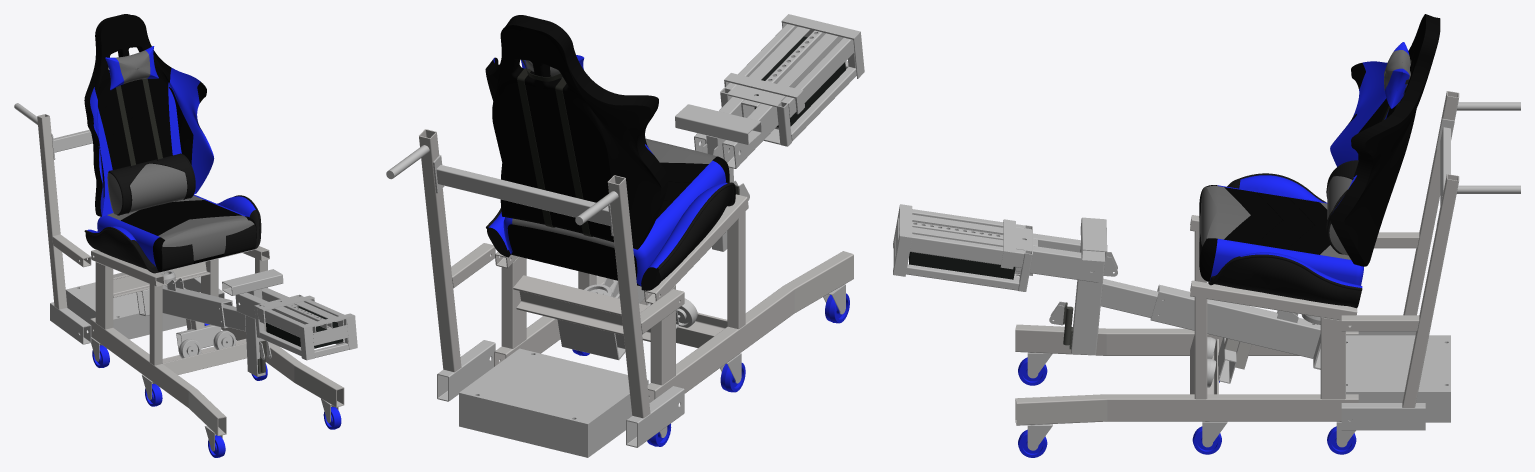
Rendered from drx.glb.
3 views of the same model, side by side, from view 1: azimuth 30°, elevation 25°; view 2: azimuth 150°, elevation 25°; view 3: azimuth 270°, elevation 25° (orthographic). The views are drawn at different scales.
Parts seen in each view (by area): view 1: Chair:1, Bent leg:1, Electrical box:1, 1.5x1.5 rect beam-03:1, Bent leg 2:1, 4x2 rect beam-02:2, Middle I-Beam:2, Vertical leg 2:1, Vertical leg 1:2, Middle I-Beam:1, 3x1.5 rect beam-01:1, 3x1.5 rect beam-05:1.001 (+20 smaller); view 2: Chair:1, Electrical box:1, Bent leg:1, 1.5x1.5 rect beam-03:1, 1.5x1.5 rect beam-03:1.001, Middle I-Beam:1, 2x1 rect beam-01:1, 3x1.5 rect beam-01:1, Vertical leg 1:2, Vertical leg 2:2, 3x1.5 rect beam-05:1.001, Support bar 1:1 (+25 smaller); view 3: Chair:1, Bent leg 2:1, Electrical box:1, 4x2 rect beam-02:2, Bent leg:1, 1.5x1.5 rect beam-03:1.001, 1.5x1.5 rect beam-03:1, Support bar 1:2, 3x1.5 rect beam-05:1.002, Vertical leg 2:2, 3x1.5 rect beam-02:2, 2x1 rect beam-02:1 (+15 smaller).
Part boxes in pixels (bbox=[...]): Chair:1: bbox=[84, 14, 261, 273]; Bent leg:1: bbox=[90, 317, 226, 435]; Electrical box:1: bbox=[65, 282, 186, 339]; 1.5x1.5 rect beam-03:1: bbox=[37, 114, 67, 309]; Bent leg 2:1: bbox=[199, 292, 344, 407]; 4x2 rect beam-02:2: bbox=[162, 285, 232, 328]; Middle I-Beam:2: bbox=[162, 338, 247, 374]; Vertical leg 2:1: bbox=[95, 262, 113, 329]; Vertical leg 1:2: bbox=[149, 283, 162, 365]; Middle I-Beam:1: bbox=[113, 262, 210, 297]; 3x1.5 rect beam-01:1: bbox=[222, 269, 283, 295]; 3x1.5 rect beam-05:1.001: bbox=[50, 302, 91, 344]; Chair:1: bbox=[485, 15, 735, 290]; Electrical box:1: bbox=[459, 348, 648, 457]; Bent leg:1: bbox=[647, 251, 853, 402]; 1.5x1.5 rect beam-03:1: bbox=[607, 175, 650, 418]; 1.5x1.5 rect beam-03:1.001: bbox=[419, 129, 461, 372]; Middle I-Beam:1: bbox=[513, 275, 650, 341]; 2x1 rect beam-01:1: bbox=[436, 165, 610, 225]; 3x1.5 rect beam-01:1: bbox=[675, 104, 761, 145]; Vertical leg 1:2: bbox=[727, 211, 745, 329]; Vertical leg 2:2: bbox=[501, 256, 526, 348]; 3x1.5 rect beam-05:1.001: bbox=[626, 386, 684, 447]; Support bar 1:1: bbox=[644, 194, 748, 303]; Chair:1: bbox=[1199, 14, 1440, 308]; Bent leg 2:1: bbox=[1015, 394, 1358, 425]; Electrical box:1: bbox=[1346, 335, 1450, 422]; 4x2 rect beam-02:2: bbox=[1150, 284, 1320, 358]; Bent leg:1: bbox=[1015, 324, 1358, 355]; 1.5x1.5 rect beam-03:1.001: bbox=[1402, 174, 1459, 407]; 1.5x1.5 rect beam-03:1: bbox=[1403, 91, 1459, 315]; Support bar 1:2: bbox=[1190, 280, 1357, 320]; 3x1.5 rect beam-05:1.002: bbox=[1341, 403, 1425, 430]; Vertical leg 2:2: bbox=[1320, 317, 1345, 399]; 3x1.5 rect beam-02:2: bbox=[1071, 243, 1104, 355]; 2x1 rect beam-02:1: bbox=[910, 234, 1024, 267].
Bounding box in the file's own units: 0.6334 × 1.33 × 1.9.
